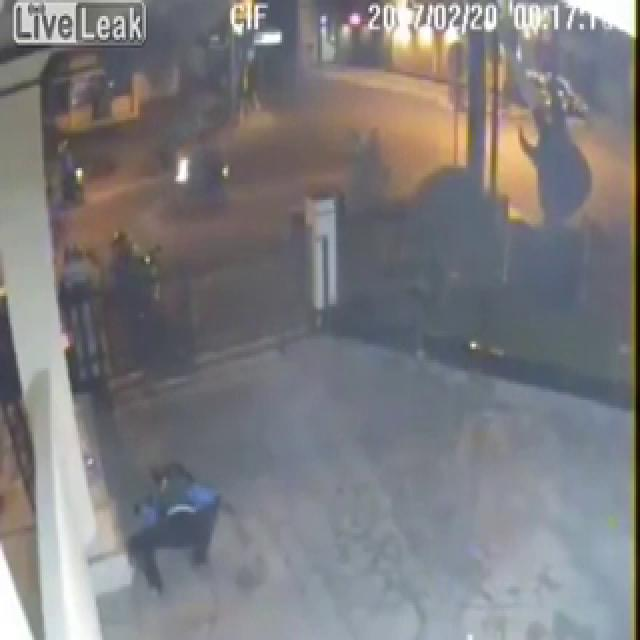road accidents: (149, 86, 278, 318)
